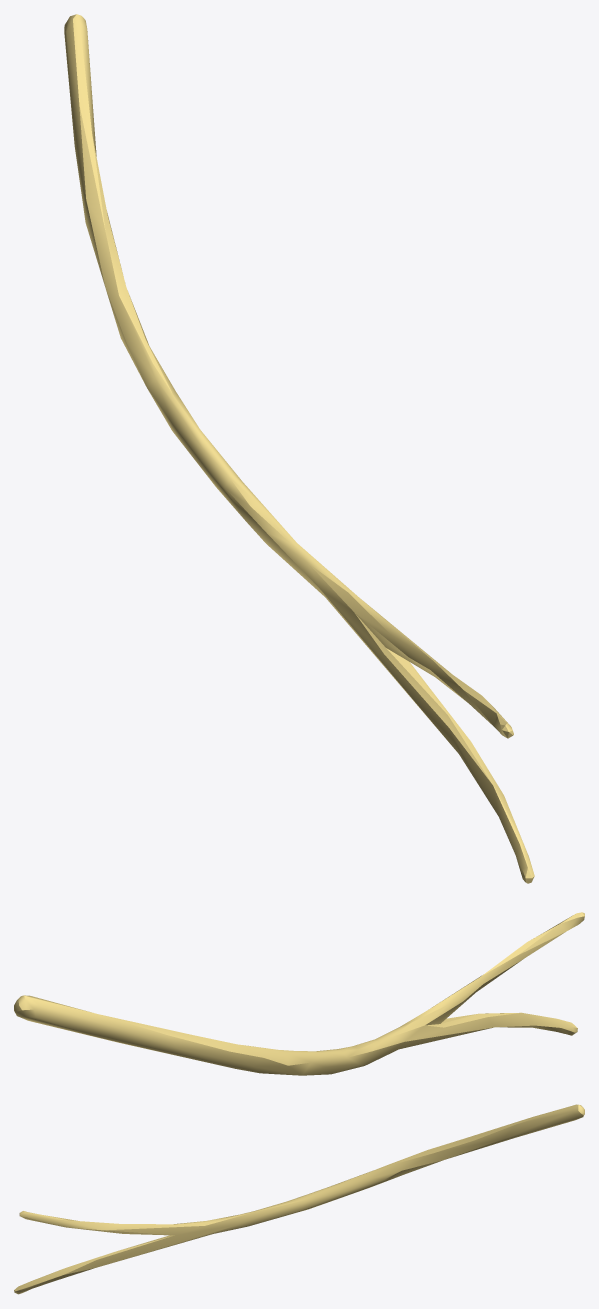
Rendered from fma52602_fj3970.glb.
3 views of the same model, one above another, from view 1: azimuth 30°, elevation 25°; view 2: azimuth 150°, elevation 25°; view 3: azimuth 270°, elevation 25° (orthographic). The views are drawn at different scales.
Parts seen in each view (by area): view 1: FMA52602_FJ3970; view 2: FMA52602_FJ3970; view 3: FMA52602_FJ3970.
Boxes of the visible parts, x1,y1,x2,y2 form: FMA52602_FJ3970: (64, 14, 534, 883); FMA52602_FJ3970: (14, 912, 584, 1075); FMA52602_FJ3970: (14, 1104, 584, 1294).
Bounding box in the file's own units: 0.00256 × 0.00757 × 0.0181.
